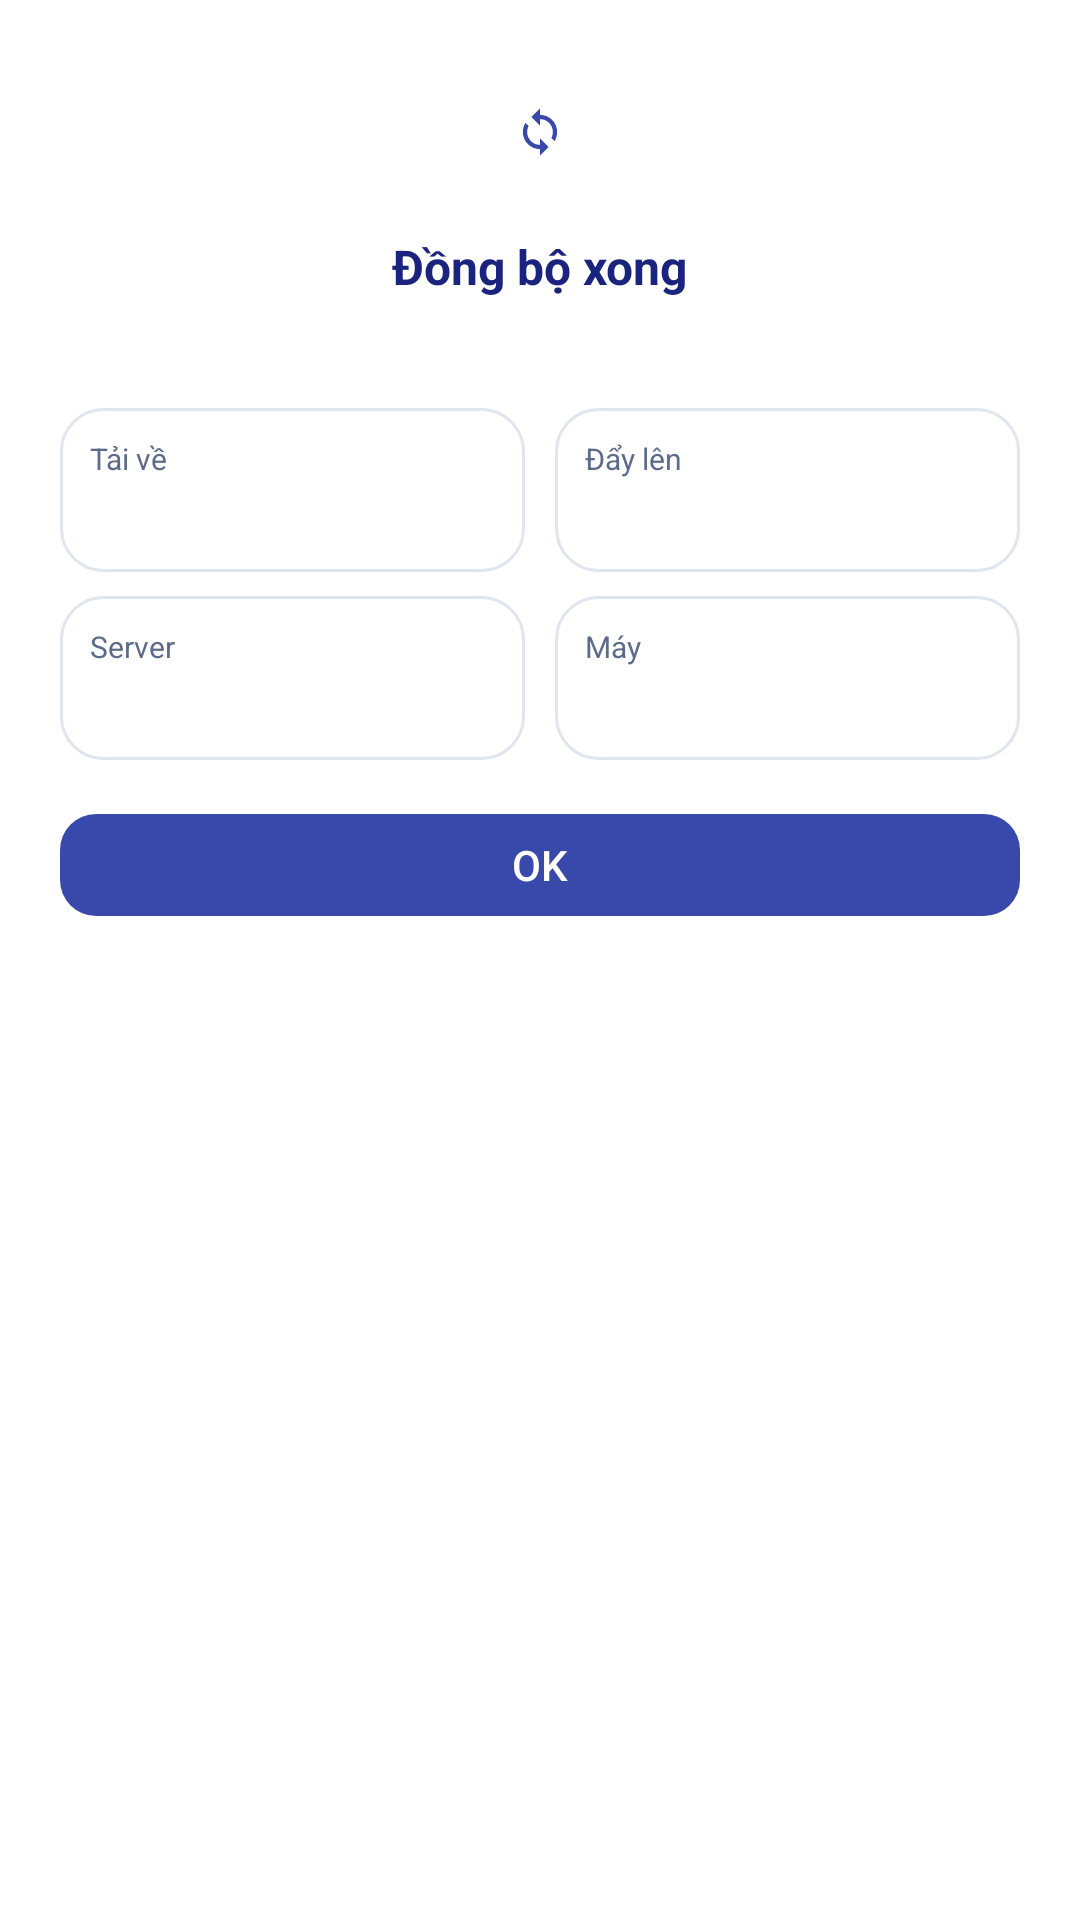

Icon click points for this 1080px x 1920px phone screenshot, format (x=x, y=y):
sync: (x=540, y=132)
